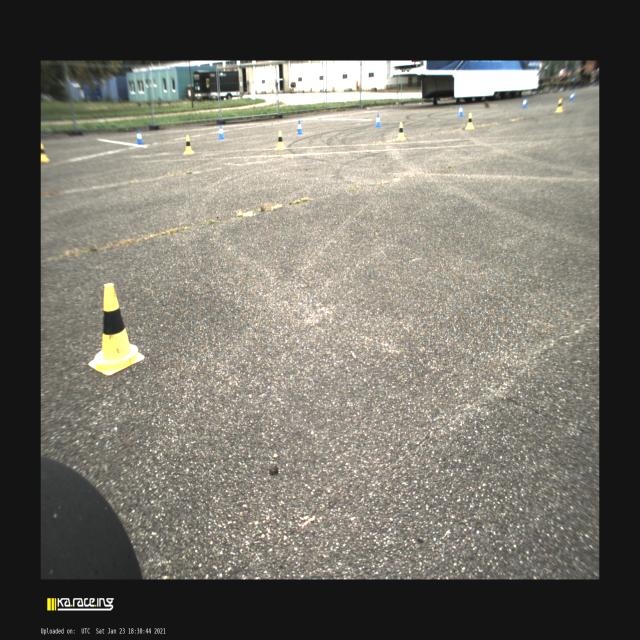blue_cone: (374, 113, 382, 127), (296, 120, 304, 134), (136, 130, 144, 144), (218, 125, 225, 139), (522, 96, 528, 108), (458, 105, 464, 116), (569, 92, 575, 102)
yellow_cone: (89, 283, 144, 376), (182, 134, 194, 154), (275, 130, 286, 150), (396, 121, 406, 141), (41, 142, 50, 164), (466, 112, 474, 128), (556, 99, 564, 112)
